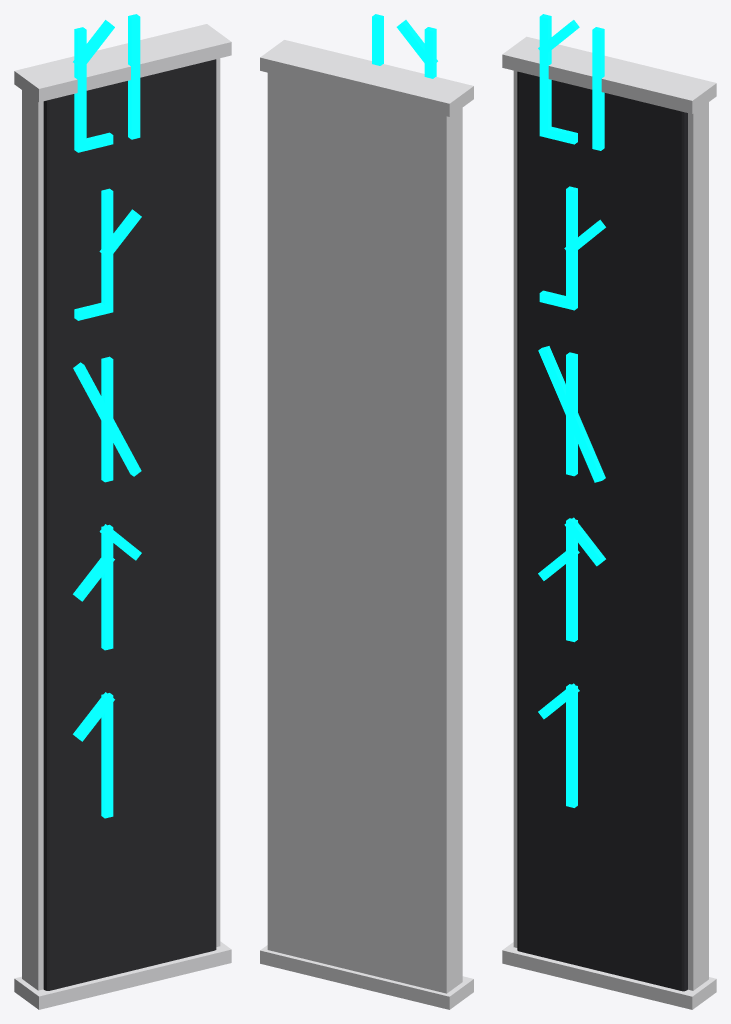
Rendered from SM_SignV2.fbx.
3 renders of one model, left to right at view 1: azimuth 30°, elevation 25°; view 2: azimuth 150°, elevation 25°; view 3: azimuth 330°, elevation 25°, orthographic.
Visible parts, largest first — view 1: SM_SignV2; view 2: SM_SignV2; view 3: SM_SignV2.
Boxes of the visible parts, x1=… form: SM_SignV2: x1=14, y1=14, x2=231, y2=1009; SM_SignV2: x1=260, y1=14, x2=473, y2=1009; SM_SignV2: x1=502, y1=14, x2=716, y2=1009.
Bounding box in the file's own units: 0.41 × 1.8 × 8.67.
